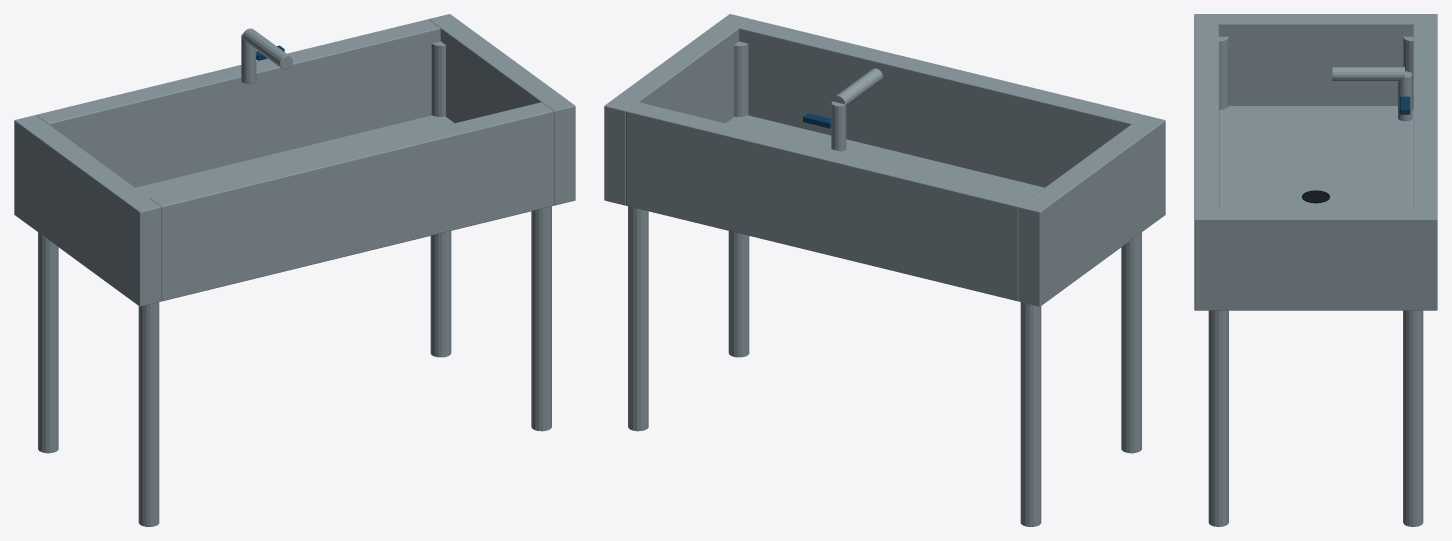
3 renders of one model, left to right at view 1: azimuth 30°, elevation 25°; view 2: azimuth 150°, elevation 25°; view 3: azimuth 270°, elevation 25°, orthographic. The views are drawn at different scales.
Visible parts, largest first — view 1: BASIN_Rim.001, BASIN_Rim, BASIN_Side.001, BASIN_Side, LEG, LEG.002, LEG.001, BASIN_Bottom, LEG.003, FAUCET_Spout, FAUCET_Vertical; view 2: BASIN_Rim, BASIN_Rim.001, BASIN_Side.001, BASIN_Side, LEG.001, LEG.003, LEG, BASIN_Bottom, LEG.002, FAUCET_Spout, FAUCET_Vertical; view 3: BASIN_Side, BASIN_Bottom, BASIN_Side.001, BASIN_Rim.001, BASIN_Rim, LEG.002, LEG.003, FAUCET_Spout, LEG, FAUCET_Vertical, LEG.001, DRAIN.
Part boxes in pixels (bbox=[...]): BASIN_Rim.001: bbox=[149, 102, 553, 301]; BASIN_Rim: bbox=[36, 19, 440, 187]; BASIN_Side.001: bbox=[14, 115, 161, 306]; BASIN_Side: bbox=[429, 14, 575, 205]; LEG: bbox=[138, 302, 159, 526]; LEG.002: bbox=[531, 206, 551, 431]; LEG.001: bbox=[38, 232, 58, 453]; BASIN_Bottom: bbox=[135, 115, 454, 197]; LEG.003: bbox=[430, 41, 451, 357]; FAUCET_Spout: bbox=[242, 28, 292, 69]; FAUCET_Vertical: bbox=[241, 34, 256, 83]; BASIN_Rim: bbox=[626, 102, 1030, 301]; BASIN_Rim.001: bbox=[739, 19, 1143, 187]; BASIN_Side.001: bbox=[1018, 115, 1165, 306]; BASIN_Side: bbox=[604, 14, 750, 205]; LEG.001: bbox=[1020, 302, 1041, 526]; LEG.003: bbox=[628, 206, 648, 431]; LEG: bbox=[1121, 232, 1141, 453]; BASIN_Bottom: bbox=[725, 115, 1044, 197]; LEG.002: bbox=[728, 41, 749, 357]; FAUCET_Spout: bbox=[832, 68, 882, 106]; FAUCET_Vertical: bbox=[831, 101, 846, 151]; BASIN_Side: bbox=[1194, 209, 1437, 310]; BASIN_Bottom: bbox=[1218, 106, 1413, 209]; BASIN_Side.001: bbox=[1194, 14, 1437, 105]; BASIN_Rim.001: bbox=[1194, 24, 1218, 209]; BASIN_Rim: bbox=[1413, 24, 1437, 209]; LEG.002: bbox=[1208, 310, 1228, 526]; LEG.003: bbox=[1403, 310, 1423, 526]; FAUCET_Spout: bbox=[1332, 67, 1404, 81]; LEG: bbox=[1218, 36, 1228, 109]; FAUCET_Vertical: bbox=[1398, 71, 1412, 120]; LEG.001: bbox=[1403, 36, 1413, 109]; DRAIN: bbox=[1302, 190, 1329, 203].
Size of the model in its own units: 1.2 by 0.988 by 0.6.
